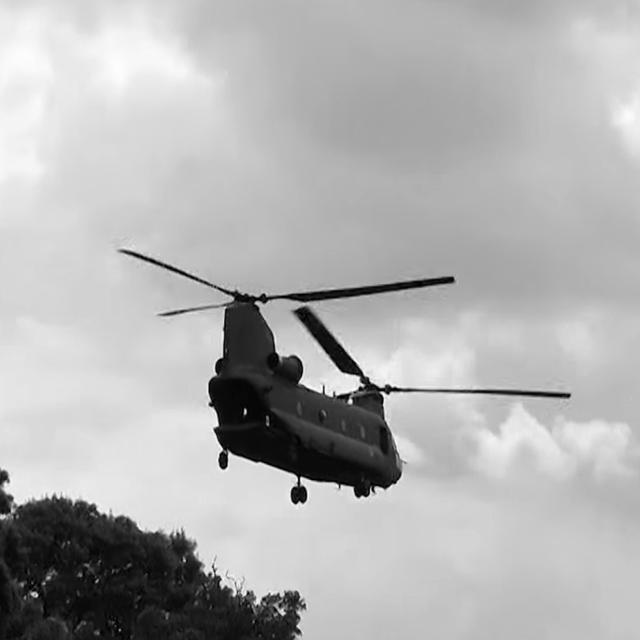Helicopter: (119, 249, 570, 503)
